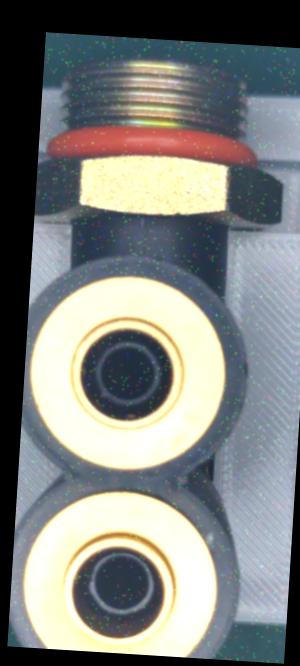joint line: (136, 236, 152, 258)
white mark: (129, 211, 153, 228)
